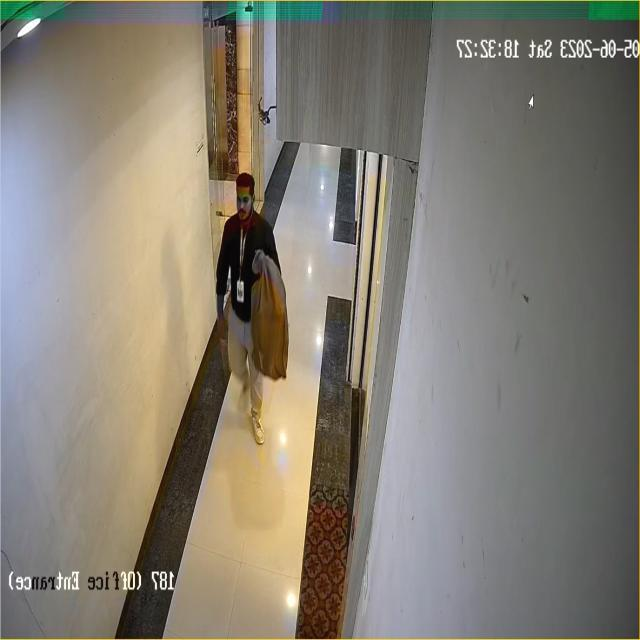gunny_bag: (248, 246, 290, 391)
